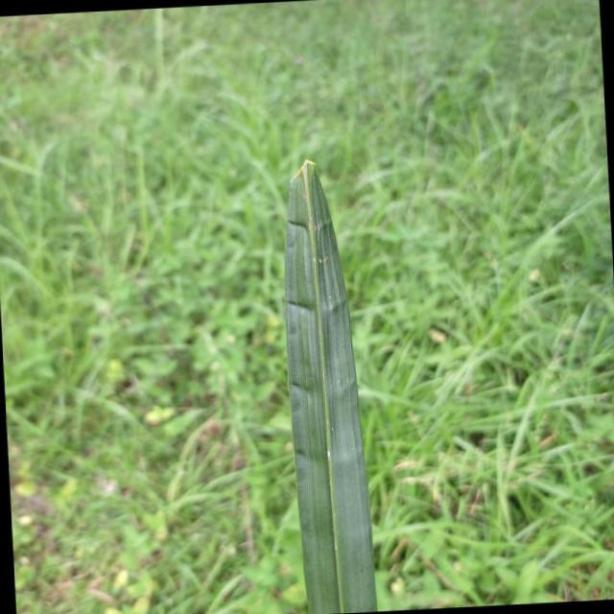Boron: (273, 151, 378, 614)
